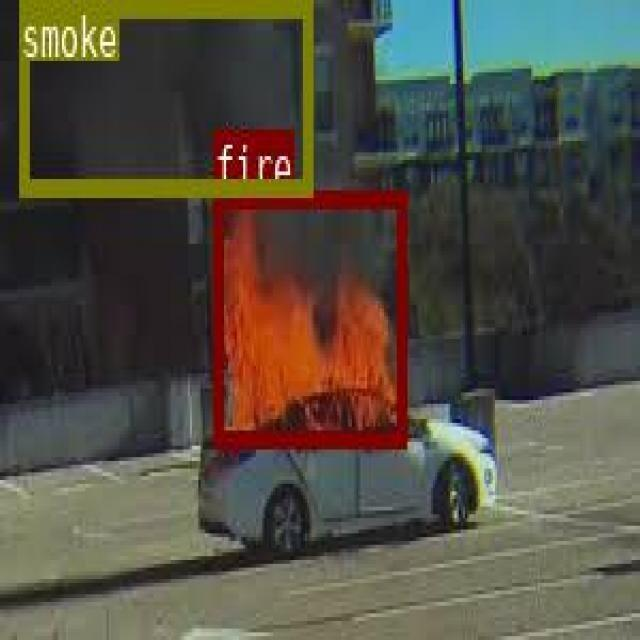fire: (213, 187, 404, 443)
smoke: (19, 0, 311, 190)
